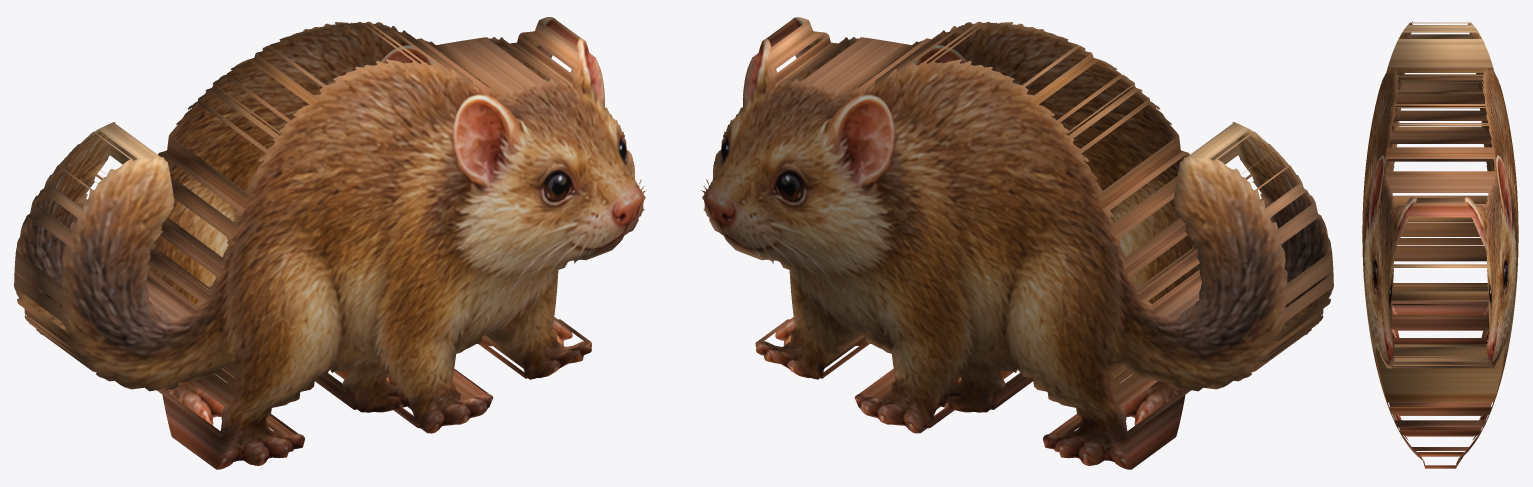
The picture shows the model from 3 angles, left to right: view 1: azimuth 30°, elevation 25°; view 2: azimuth 150°, elevation 25°; view 3: azimuth 270°, elevation 25°; orthographic projection. The views are drawn at different scales.
Parts seen in each view (by area): view 1: organisms:3; view 2: organisms:3; view 3: organisms:3.
Part boxes in pixels (x1,y1,x2,y2): organisms:3: [14, 17, 646, 469]; organisms:3: [701, 17, 1333, 469]; organisms:3: [1362, 21, 1518, 468].
Size of the model in its own units: 1.52 by 0.9444 by 0.42.
1 material, 1 textured.
